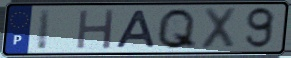9: (243, 6, 278, 51)
A: (112, 9, 157, 49)
H: (74, 8, 117, 51)
I: (35, 7, 54, 52)
Q: (154, 7, 198, 51)
X: (198, 6, 240, 51)
